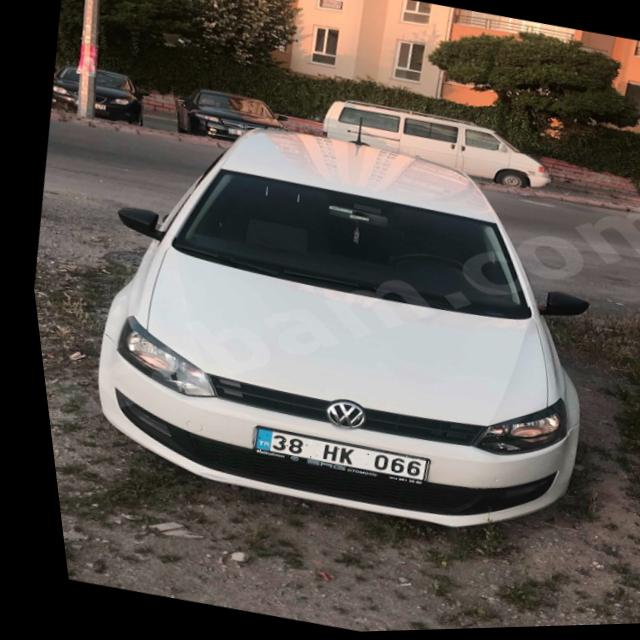license_plate: (239, 425, 416, 487)
